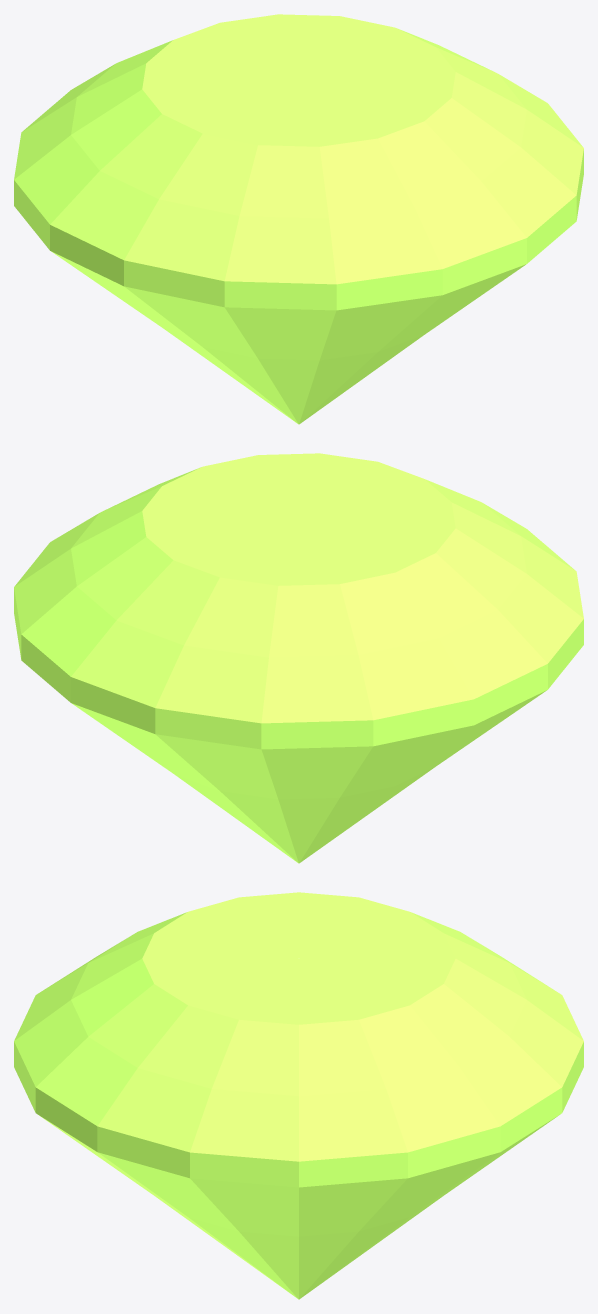
File: demantoid-garnet-jewel.glb
3 renders of one model, top to bottom at view 1: azimuth 30°, elevation 25°; view 2: azimuth 150°, elevation 25°; view 3: azimuth 270°, elevation 25°, orthographic.
Visible parts, largest first — view 1: Demantoid garnet; view 2: Demantoid garnet; view 3: Demantoid garnet.
Boxes of the visible parts, bbox=[...] form: Demantoid garnet: bbox=[14, 14, 583, 424]; Demantoid garnet: bbox=[14, 453, 583, 863]; Demantoid garnet: bbox=[14, 892, 583, 1299].
Bounding box in the file's own units: 2 × 1.32 × 2.
